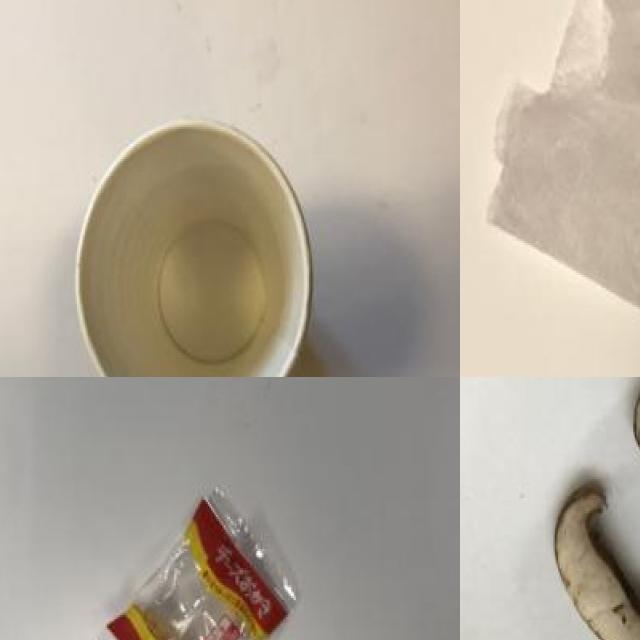compost: (545, 377, 640, 640)
trash: (61, 108, 324, 377), (493, 0, 640, 349), (83, 454, 317, 640)
